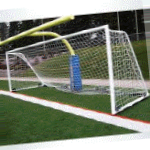goals: (3, 25, 150, 115)
